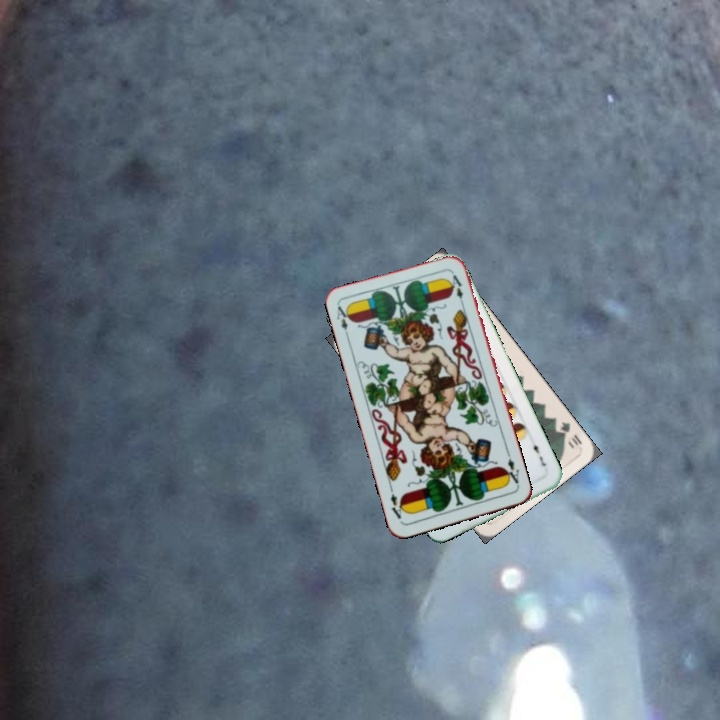E7: (529, 437, 549, 469)
EA: (500, 449, 522, 489), (332, 302, 354, 341)
G10: (555, 418, 585, 448)
